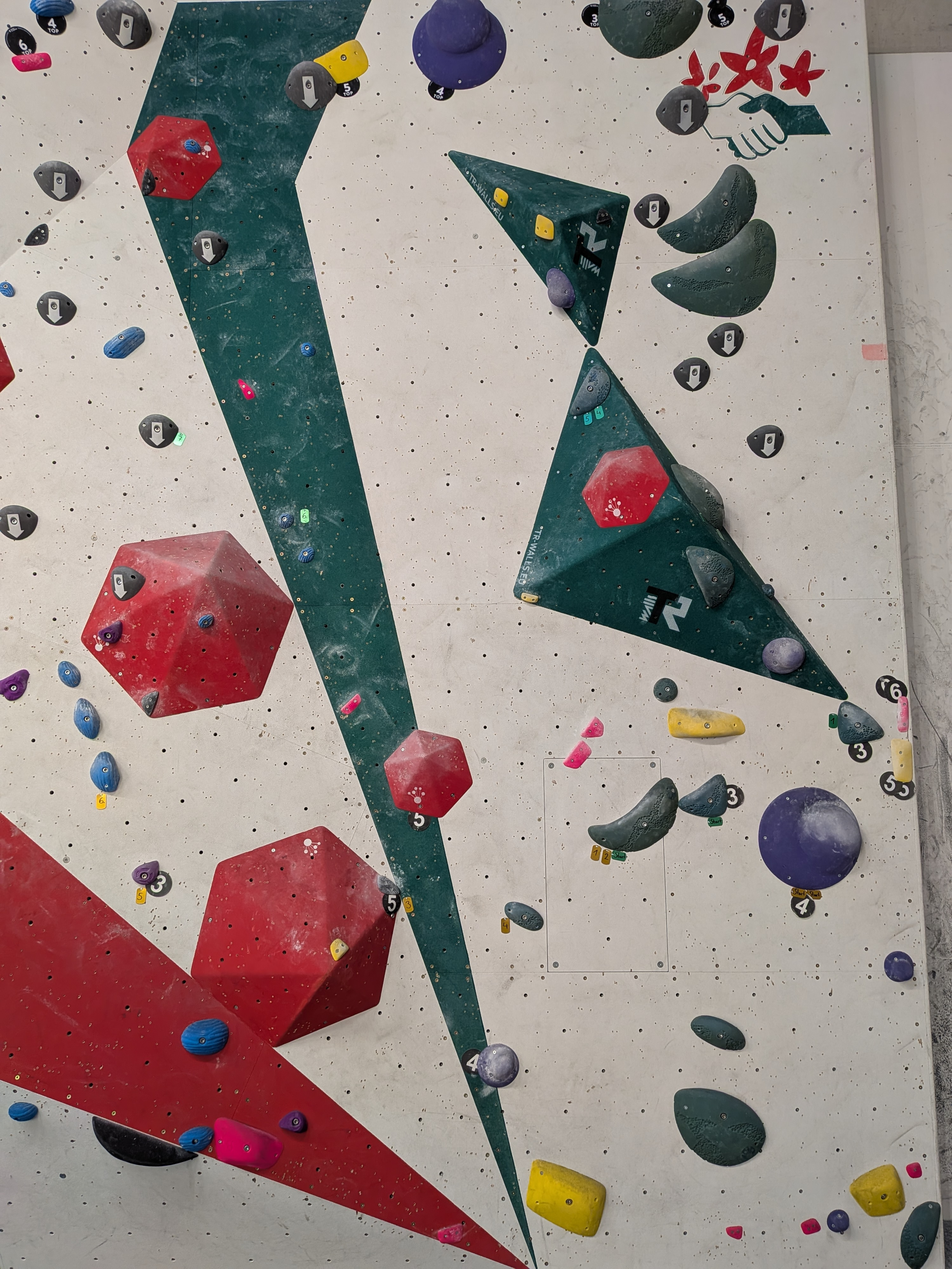hold: (652, 220, 776, 317), (759, 787, 861, 889), (659, 164, 756, 252), (413, 0, 506, 89), (674, 1088, 765, 1166), (589, 778, 678, 853), (599, 0, 703, 58), (526, 1161, 606, 1236), (93, 1116, 196, 1166), (214, 1117, 283, 1169), (672, 463, 724, 529), (686, 547, 734, 608), (850, 1164, 904, 1216), (901, 1201, 941, 1269), (96, 0, 151, 49), (656, 85, 708, 135), (285, 61, 336, 110), (314, 40, 368, 83), (668, 708, 745, 738), (679, 774, 728, 818), (754, 0, 806, 40), (571, 365, 611, 416), (837, 701, 883, 744), (691, 1015, 745, 1050), (34, 160, 81, 200), (477, 1044, 519, 1087), (181, 1018, 228, 1055), (762, 637, 805, 675), (0, 504, 38, 540), (139, 414, 179, 448), (36, 291, 76, 324), (546, 267, 576, 310), (192, 230, 228, 265), (708, 322, 744, 357), (104, 327, 144, 358), (747, 425, 784, 458), (111, 565, 145, 600), (634, 194, 669, 228), (90, 752, 119, 793), (673, 358, 709, 391), (505, 901, 544, 930), (74, 699, 100, 738), (891, 738, 913, 782), (884, 951, 915, 982), (0, 669, 29, 700), (179, 1126, 213, 1152), (564, 740, 591, 769), (30, 0, 74, 17), (12, 52, 51, 71), (133, 861, 159, 885), (24, 223, 49, 247), (58, 661, 81, 687), (437, 1222, 464, 1244), (279, 1111, 307, 1132), (98, 620, 122, 644), (654, 678, 678, 702), (8, 1102, 38, 1121), (827, 1209, 849, 1234), (534, 214, 554, 240), (140, 690, 159, 716), (340, 693, 361, 716), (376, 874, 400, 894), (329, 938, 349, 961), (897, 696, 909, 733), (581, 717, 603, 737), (237, 378, 255, 400), (141, 168, 155, 196), (801, 1218, 821, 1235), (183, 138, 201, 154), (494, 187, 508, 207), (197, 613, 214, 629), (725, 1225, 743, 1240), (906, 1162, 922, 1178), (298, 547, 314, 563), (0, 281, 15, 297), (597, 208, 611, 224), (301, 342, 315, 357), (520, 592, 539, 603), (707, 0, 727, 10), (279, 513, 293, 527), (762, 583, 775, 597), (38, 62, 38, 62)
volume: (514, 348, 851, 701), (189, 824, 401, 1049), (79, 529, 295, 719), (446, 148, 631, 346), (126, 115, 223, 200), (383, 729, 473, 818), (581, 444, 671, 528)
